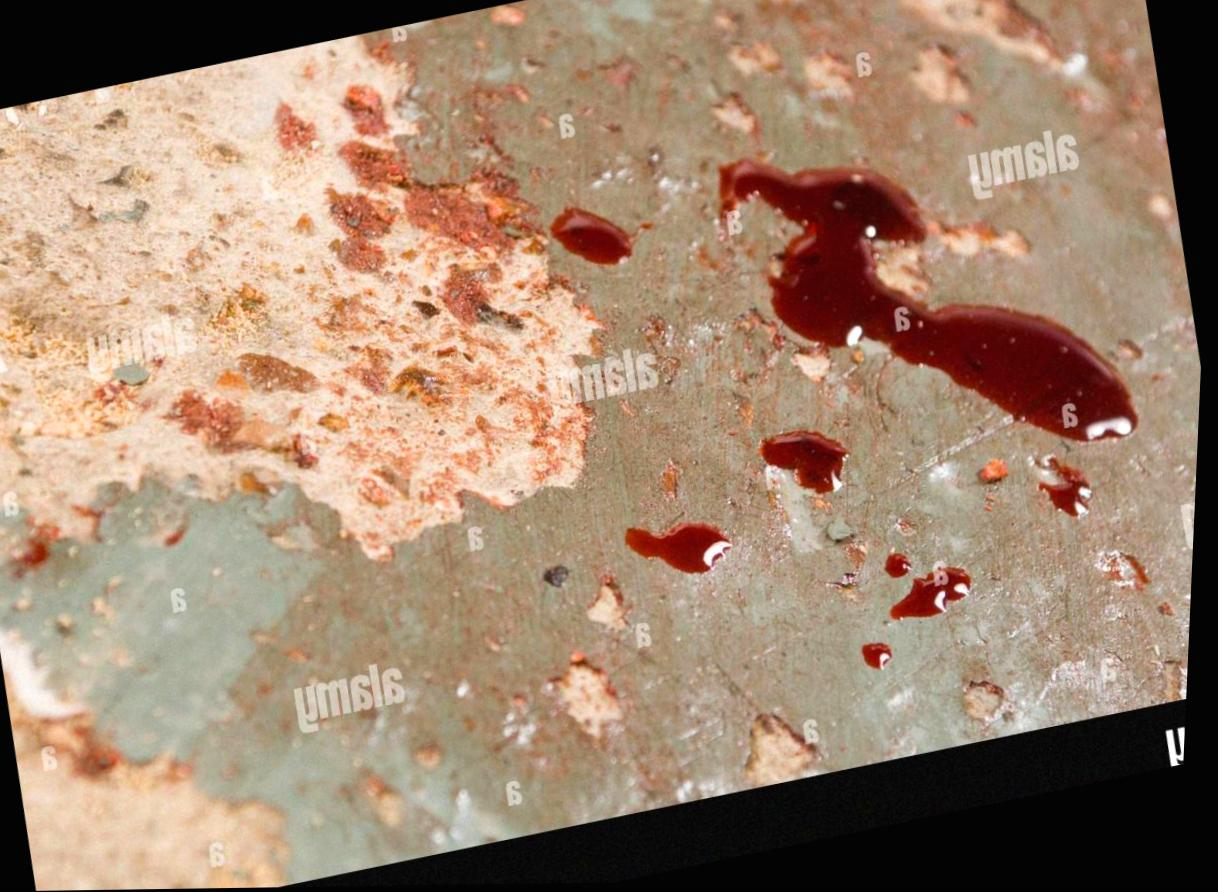Fire: (719, 159, 1144, 445), (629, 523, 739, 577), (763, 431, 851, 496), (553, 208, 637, 266), (895, 569, 977, 621), (1043, 460, 1093, 517), (868, 645, 899, 671), (890, 556, 917, 579)
